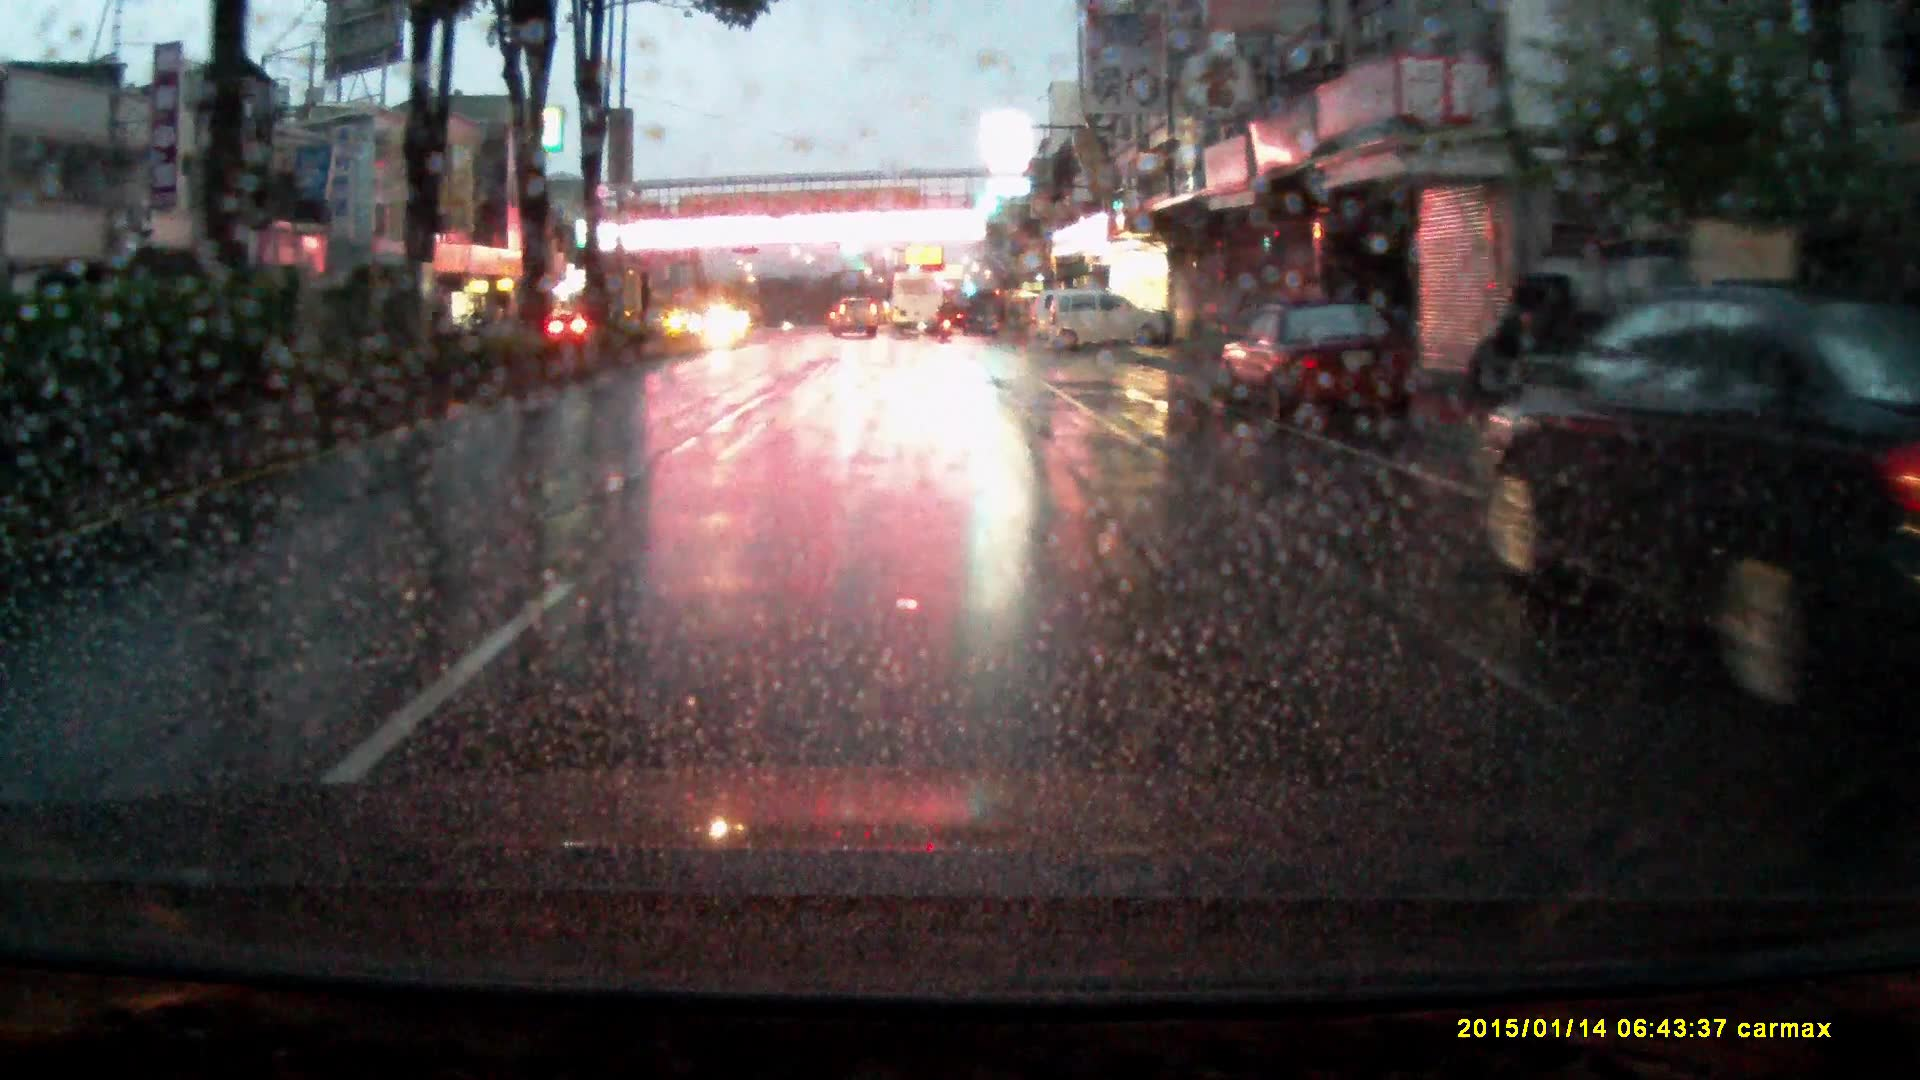vehicle: (1462, 277, 1920, 708), (1222, 302, 1435, 436), (1048, 291, 1168, 355), (890, 272, 945, 334), (833, 295, 880, 338), (1029, 291, 1062, 340)
